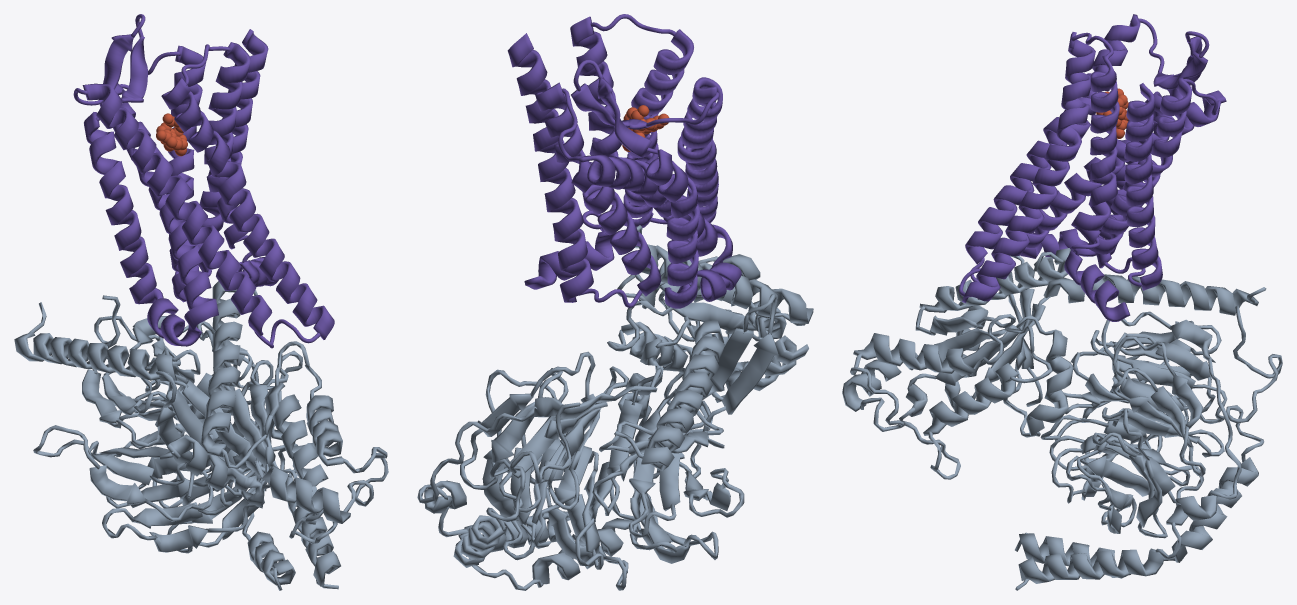
The model's file is mor-morphine-8ef6.glb.
3 views of the same model, side by side, from view 1: azimuth 30°, elevation 25°; view 2: azimuth 150°, elevation 25°; view 3: azimuth 270°, elevation 25° (orthographic). The views are drawn at different scales.
Visible parts, largest first — view 1: gprotein, receptor, ligand; view 2: gprotein, receptor, ligand; view 3: gprotein, receptor.
Part boxes in pixels (x1=…): gprotein: x1=14, y1=281, x2=388, y2=590; receptor: x1=73, y1=14, x2=334, y2=348; ligand: x1=156, y1=113, x2=187, y2=156; gprotein: x1=417, y1=225, x2=813, y2=590; receptor: x1=507, y1=14, x2=741, y2=308; ligand: x1=622, y1=105, x2=669, y2=151; gprotein: x1=842, y1=248, x2=1282, y2=590; receptor: x1=959, y1=14, x2=1226, y2=321.
Bounding box in the file's own units: 5.99 × 11.31 × 8.81.
